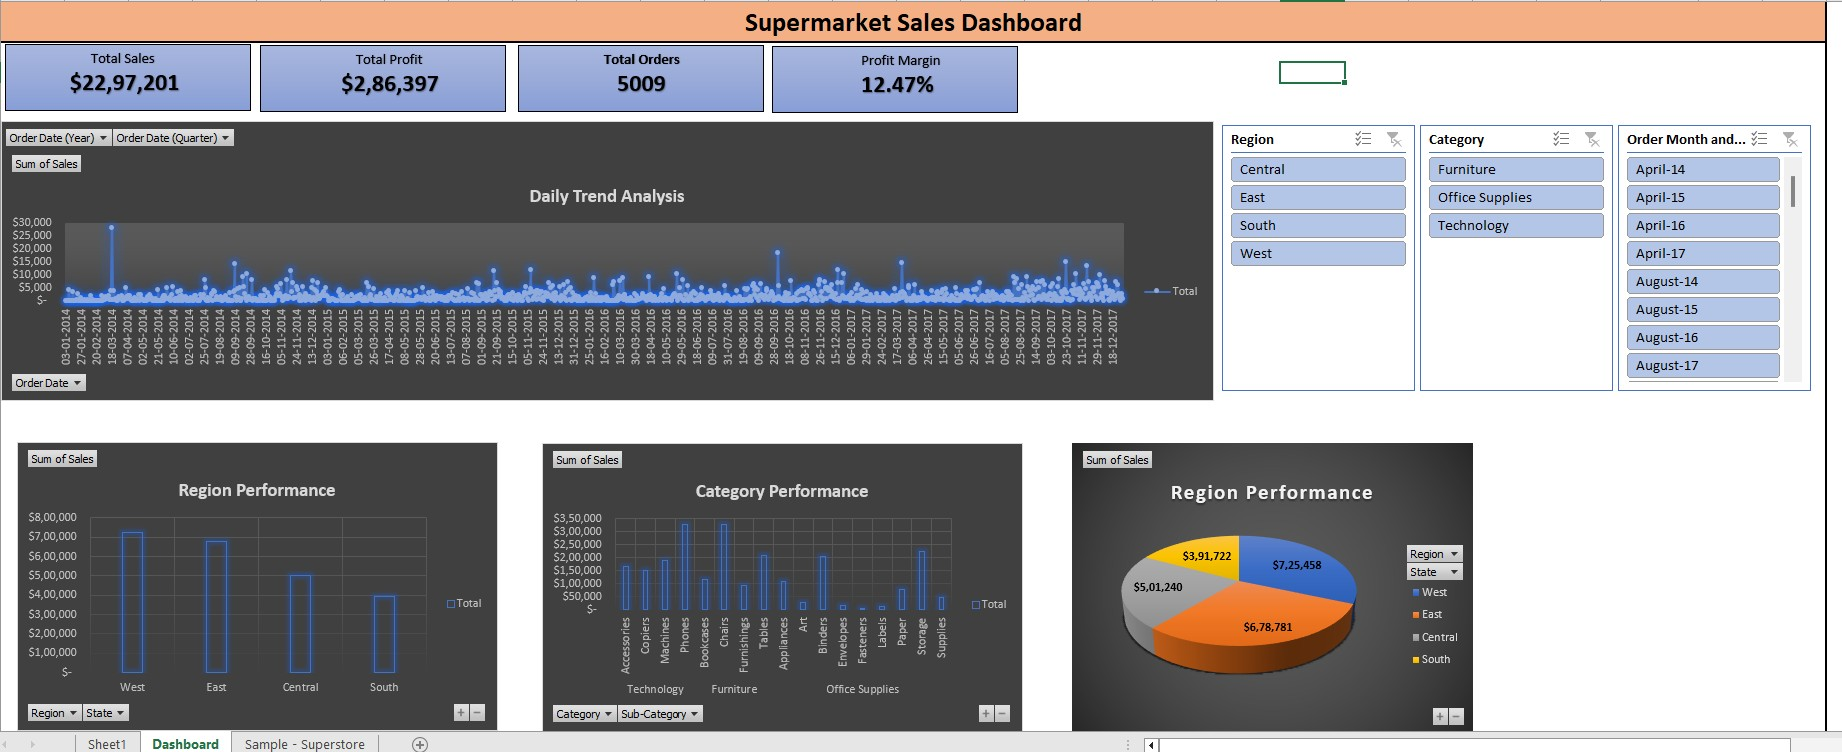

This screenshot's page, from the dashboard's own definition file:
{"tool":"powerbi","page":{"name":"Page 1","canvas":[1280,720],"ordinal":0},"visuals":[{"type":"card","title":"Total Sales","fields":{"Values":["Sample - Superstore.Total Sales"]},"box":[0,0,318.1,130.3],"z":0},{"type":"card","fields":{"Values":["Sample - Superstore.Total Profit"]},"box":[326.8,0,318.1,130.3],"z":1000},{"type":"card","fields":{"Values":["Sample - Superstore.Total Orders"]},"box":[654.6,0,318.1,130.3],"z":2000},{"type":"card","fields":{"Values":["Sample - Superstore.Profit Margin"]},"box":[981.4,0,298.6,130.3],"z":3000},{"type":"lineChart","fields":{"Category":["Sample - Superstore.Order Date.Variation.Date Hierarchy.Year","Sample - Superstore.Order Date.Variation.Date Hierarchy.Quarter","Sample - Superstore.Order Date.Variation.Date Hierarchy.Month","Sample - Superstore.Order Date.Variation.Date Hierarchy.Day"],"Y":["Sample - Superstore.Total Sales"]},"box":[0,561.5,797,158.5],"z":4000},{"type":"clusteredBarChart","fields":{"Category":["Sample - Superstore.Category"],"Y":["Sample - Superstore.Total Sales"]},"box":[0,130.3,654.6,151.7],"z":5000},{"type":"columnChart","fields":{"Y":["Sample - Superstore.Total Sales"],"Category":["Sample - Superstore.Region"]},"box":[654.6,130.3,625.4,151.7],"z":6000},{"type":"tableEx","fields":{"Values":["Sample - Superstore.Product Name","Sample - Superstore.Total Sales","Sample - Superstore.Total Profit"]},"box":[0,282.1,797,266.9],"z":7000},{"type":"slicer","fields":{"Values":["Sample - Superstore.Order Date"]},"box":[796.6,308.3,483.4,103.1],"z":8000},{"type":"slicer","fields":{"Values":["Sample - Superstore.Region"]},"box":[796.6,445.5,483.4,74.9],"z":9000},{"type":"slicer","fields":{"Values":["Sample - Superstore.Category","Sample - Superstore.Sub-Category"]},"box":[1080.6,537.9,199.4,181.9],"z":10000},{"type":"pieChart","fields":{"Category":["Sample - Superstore.Region"],"Y":["Sample - Superstore.Profit Margin"]},"box":[796.6,520.4,284,198.4],"z":11000}]}

Visuals, with their boxes on the page's 1280x720 design canvas (x1, y1, x2, y2). These are canvas units, not pixel positions in the 1842x752 screenshot, which may show the page scaled, cropped or inside an application window:
"Total Sales" card: <box>0,0,318,130</box>
card - Sample - Superstore.Total Profit: <box>327,0,645,130</box>
card - Sample - Superstore.Total Orders: <box>655,0,973,130</box>
card - Sample - Superstore.Profit Margin: <box>981,0,1280,130</box>
lineChart - Sample - Superstore.Order Date.Variation.Date Hierarchy.Year x Sample - Superstore.Order Date.Variation.Date Hierarchy.Quarter: <box>0,562,797,720</box>
clusteredBarChart - Sample - Superstore.Category x Sample - Superstore.Total Sales: <box>0,130,655,282</box>
columnChart - Sample - Superstore.Total Sales x Sample - Superstore.Region: <box>655,130,1280,282</box>
tableEx - Sample - Superstore.Product Name x Sample - Superstore.Total Sales: <box>0,282,797,549</box>
slicer - Sample - Superstore.Order Date: <box>797,308,1280,411</box>
slicer - Sample - Superstore.Region: <box>797,446,1280,520</box>
slicer - Sample - Superstore.Category x Sample - Superstore.Sub-Category: <box>1081,538,1280,720</box>
pieChart - Sample - Superstore.Region x Sample - Superstore.Profit Margin: <box>797,520,1081,719</box>
